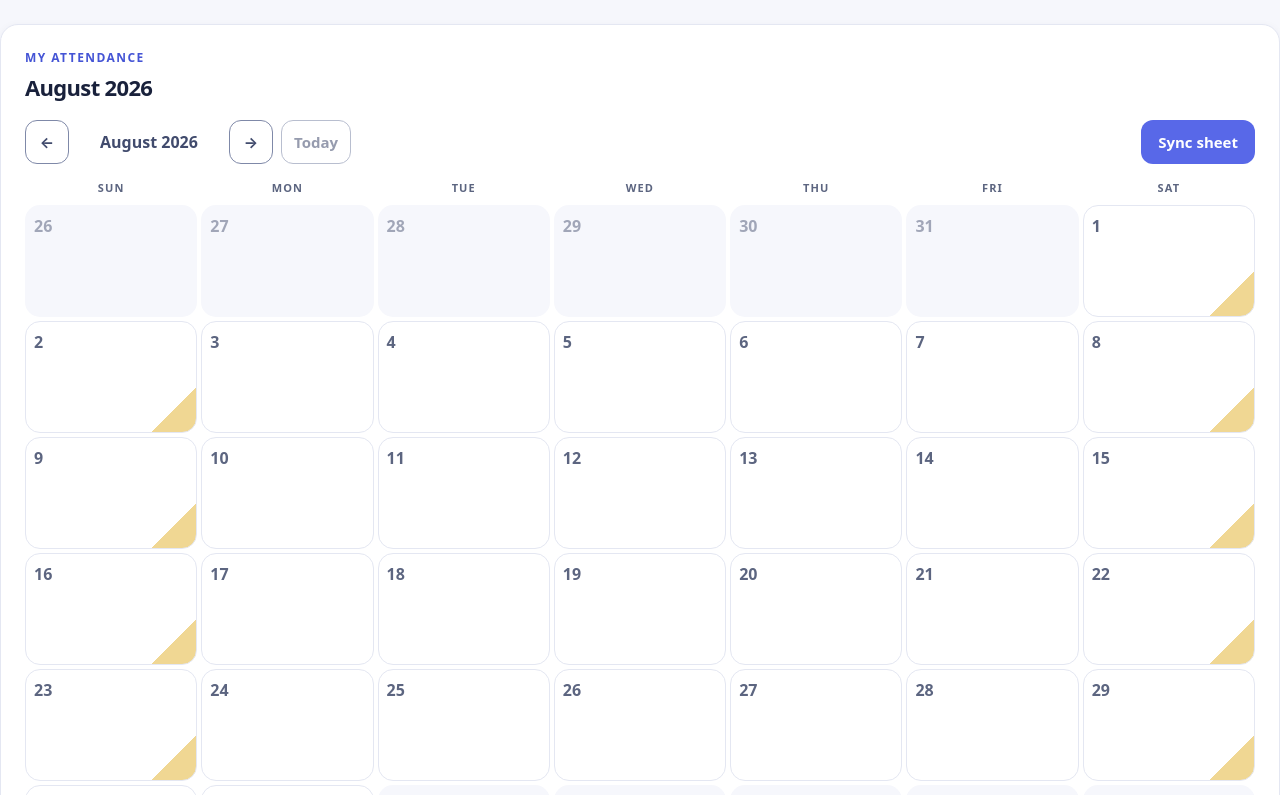
Scenario: DashboardClient — the calendar is always drawn › moves to any month, not only the ones that have a file
Click the button named "Next month". click: [251, 142]
box: [229,120,273,164]
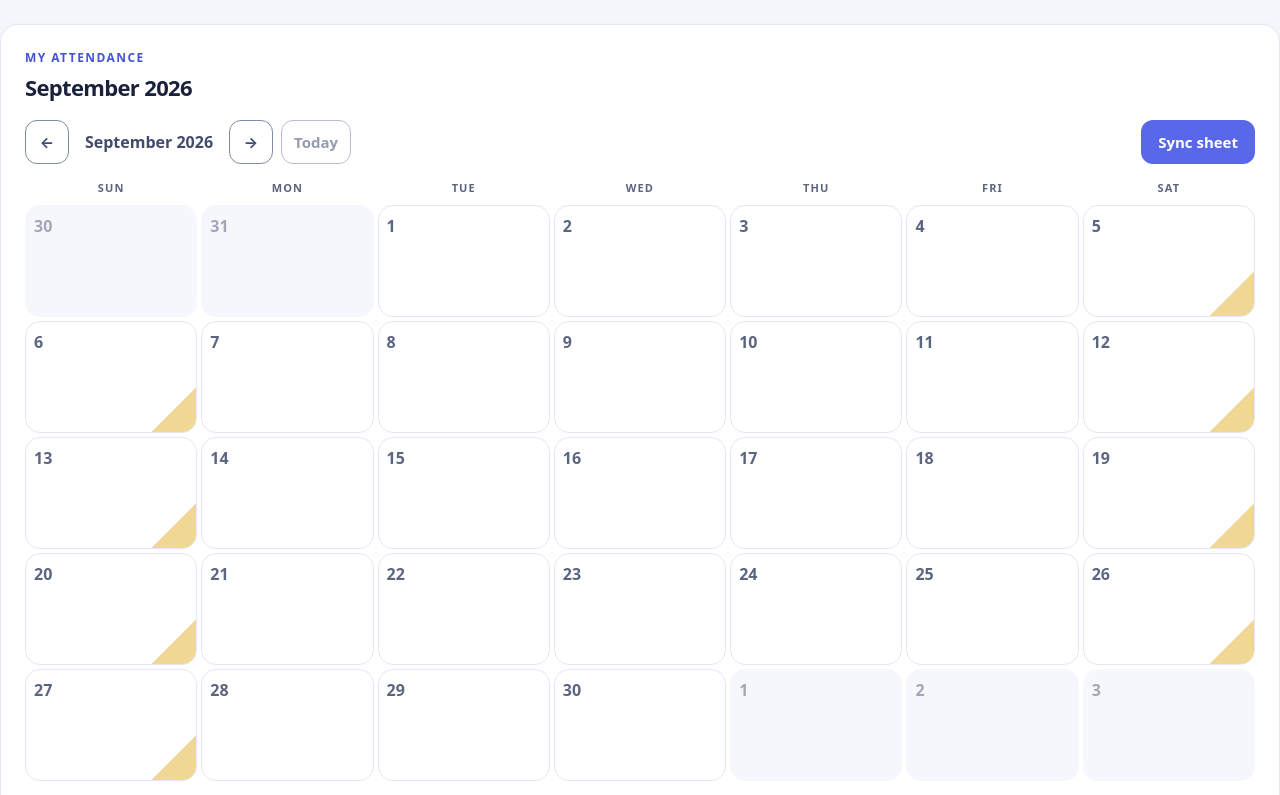
expect the table named "September 2026 attendance calendar" is shown: met
Click the button named "Previous month". click: [47, 142]
box: [25,120,69,164]
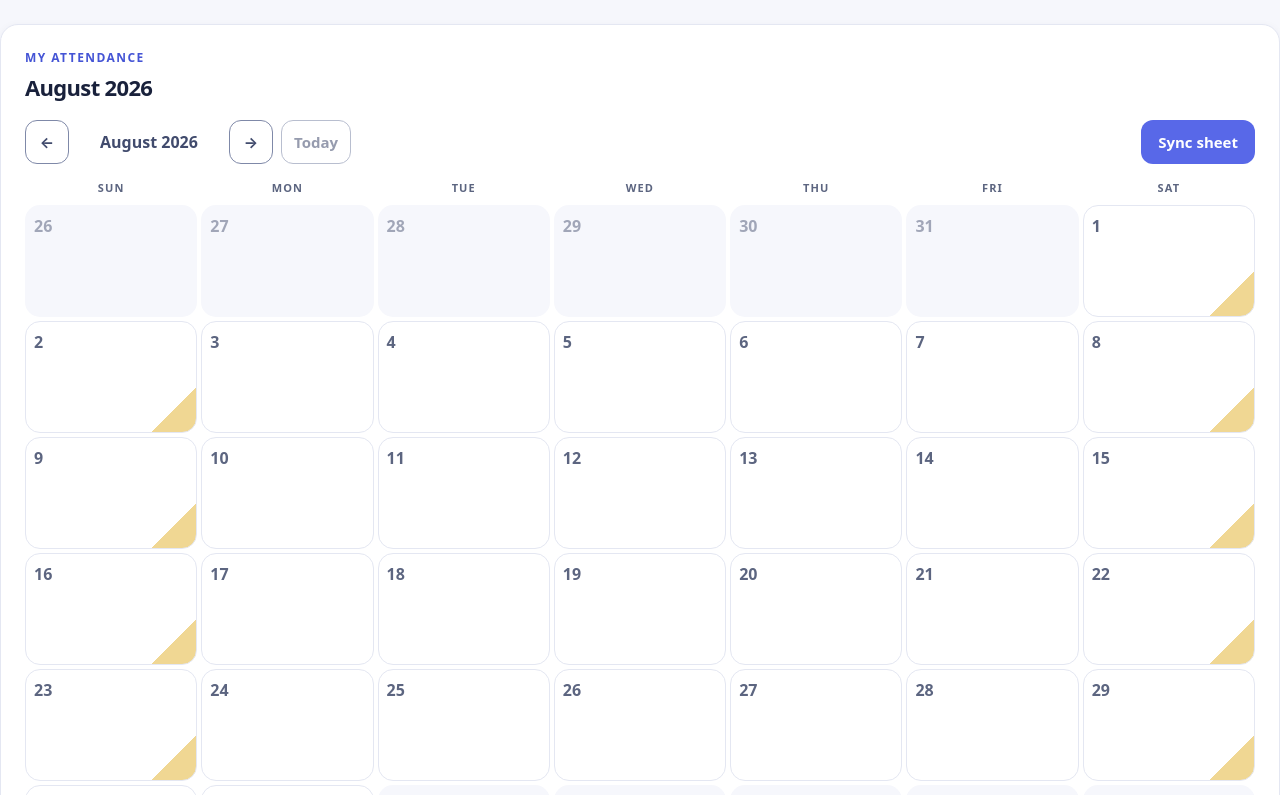
Click the button named "Previous month". click: [47, 142]
box: [25,120,69,164]
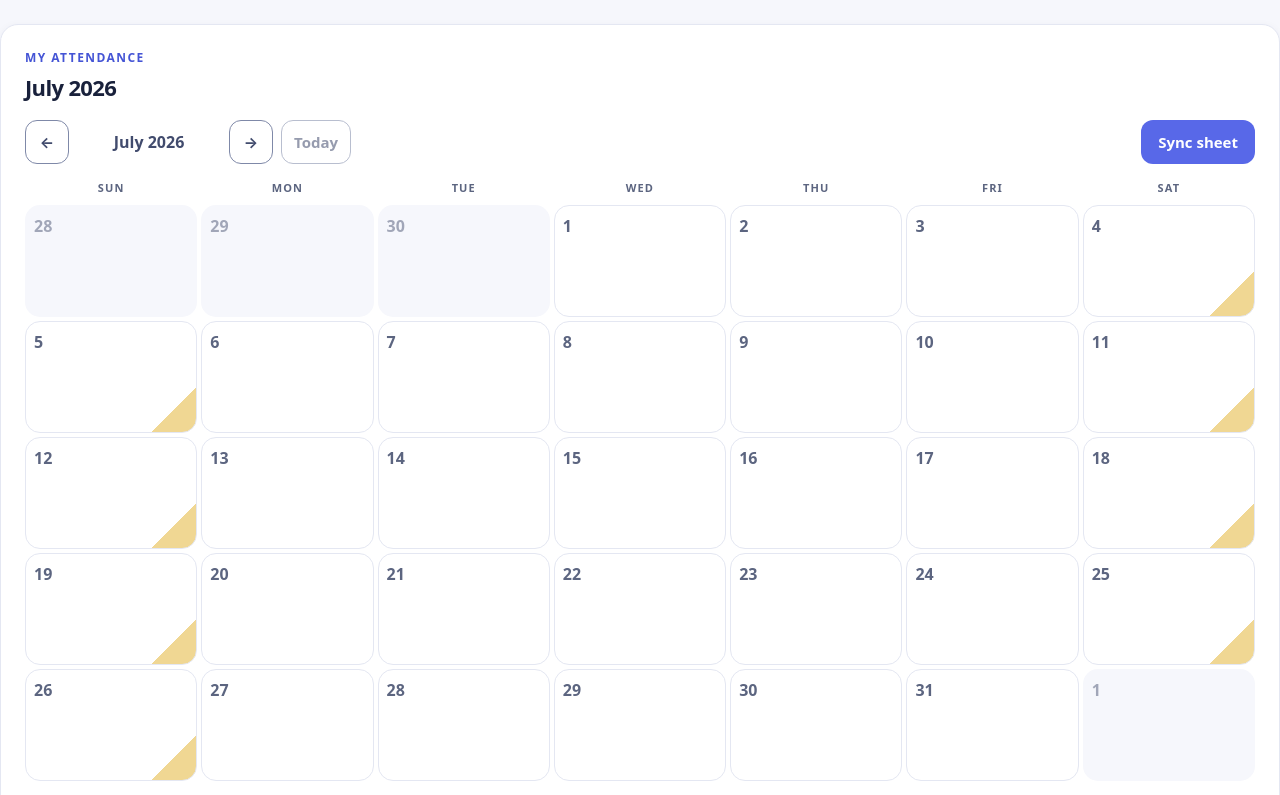
expect the table named "July 2026 attendance calendar" is shown: met
